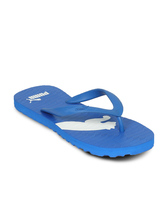shoes: (10, 81, 156, 156)
